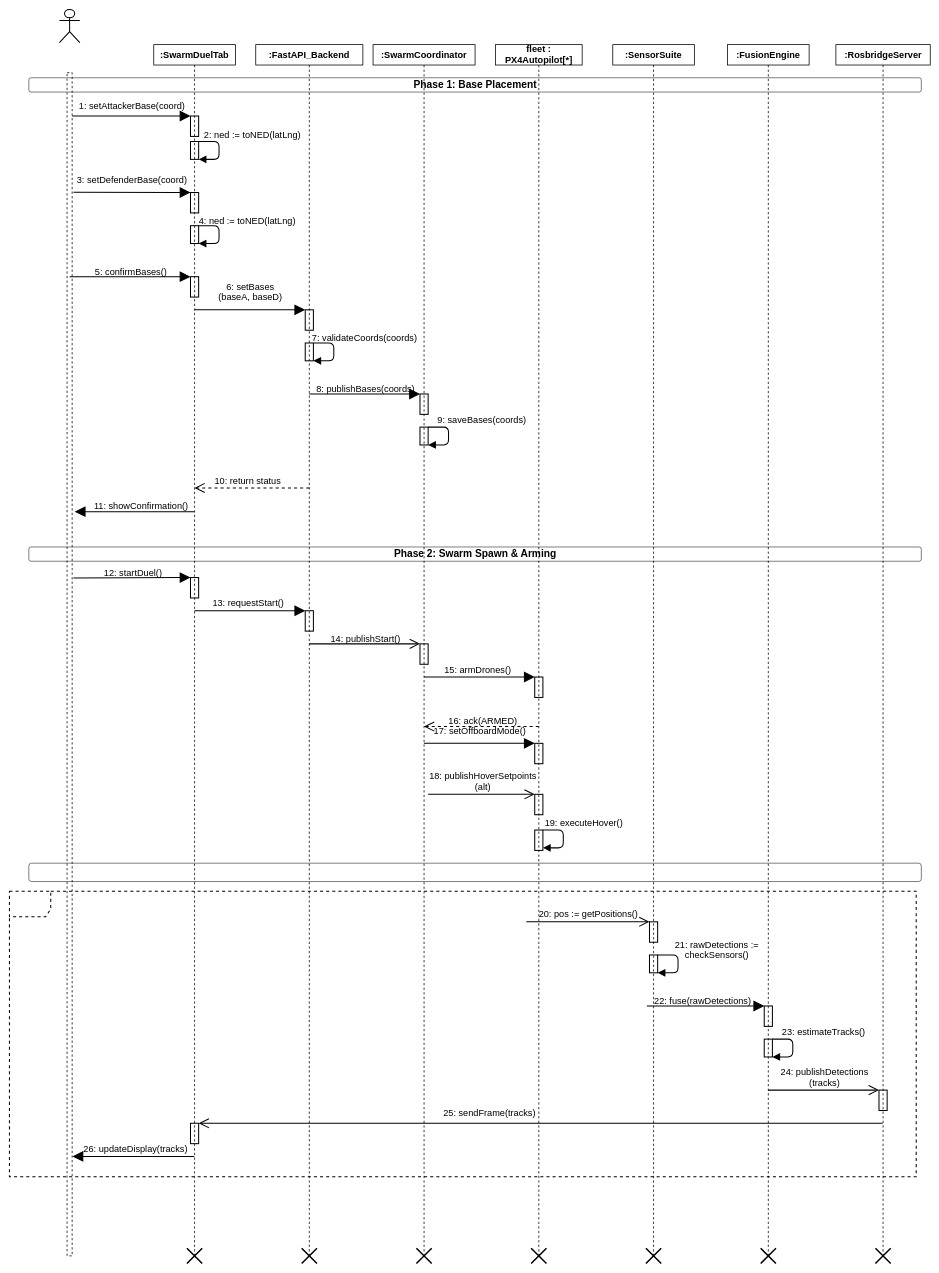
The diagram is 939 pixels wide and 1273 high, and some of its shapes have lost their labels. Here are the shapes that lost their labels. From the top down, the centre of each, then its label:
point 69,26: :Operator
point 474,872: Phase 3: Sensor Processing Pipeline
point 462,1033: loop
